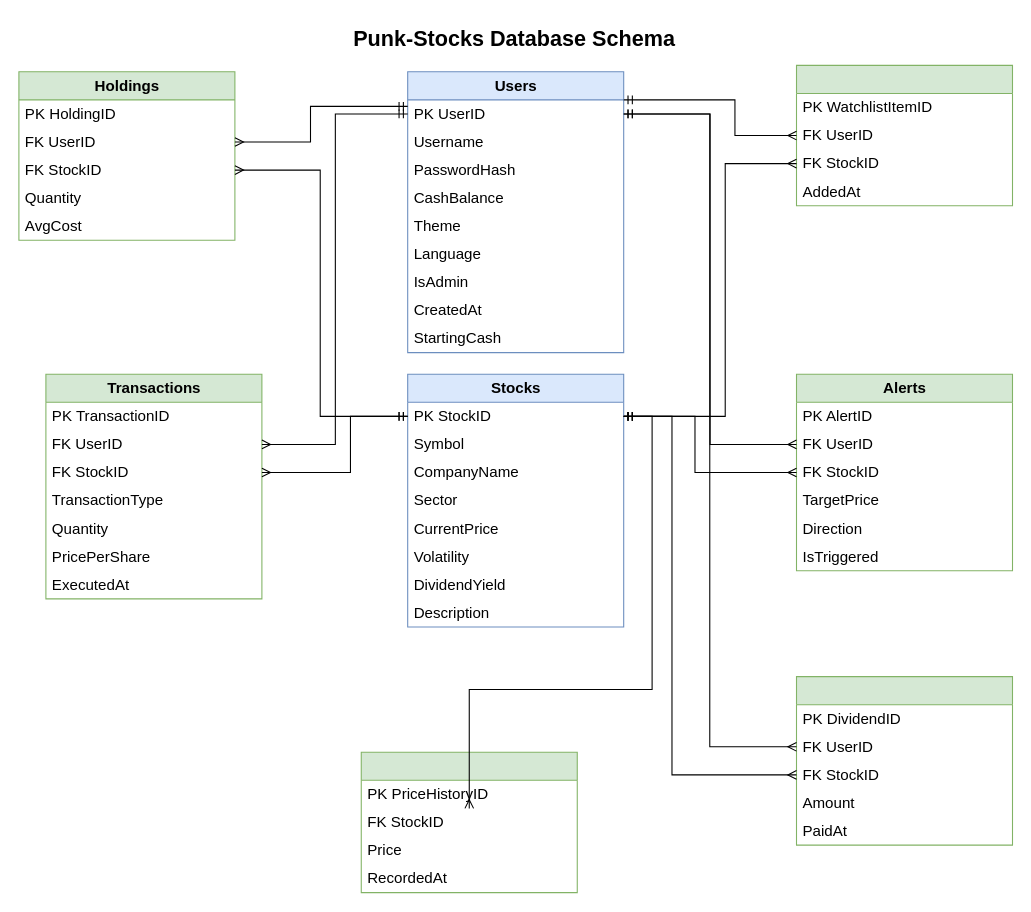
The diagram is 1031 pixels wide and 912 high, and some of its shapes have lost their labels. Here are the shapes that lost their labels. From the top down, the box of each, then its label:
(795, 64, 1013, 206): WatchlistItems
(795, 676, 1013, 845): Dividends
(360, 751, 577, 893): PriceHistories
